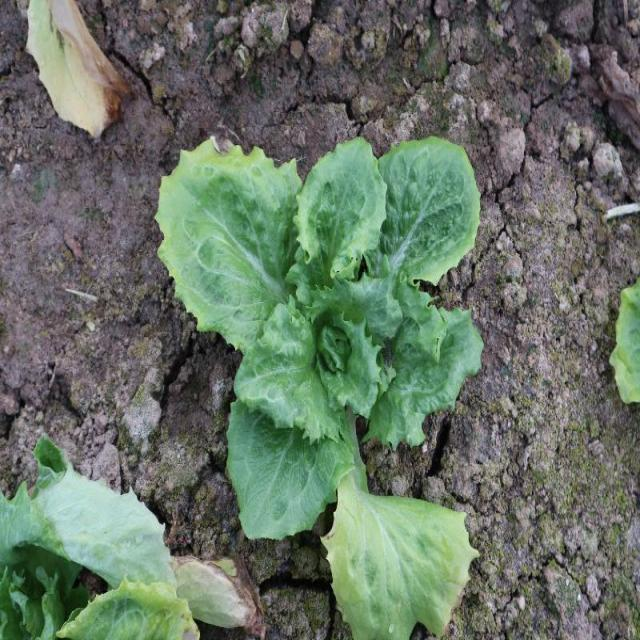crop: (153, 124, 484, 536)
